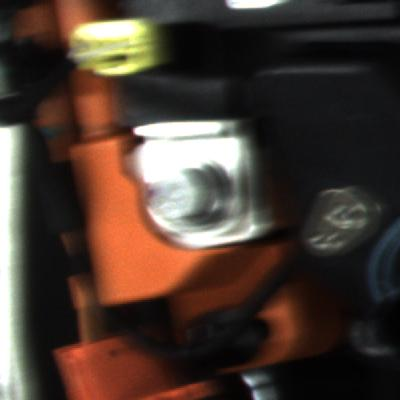nut_b: (145, 153, 238, 249)
